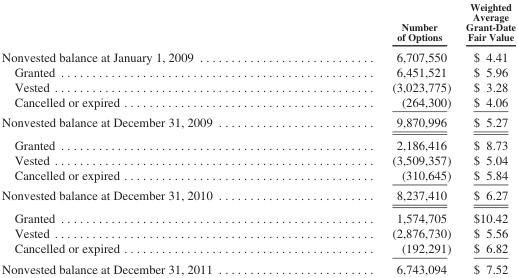table: (1, 0, 515, 275)
table column: (1, 0, 301, 275), (301, 0, 457, 275), (457, 0, 515, 275)
table column header: (1, 0, 515, 45)
table row: (1, 0, 515, 45), (1, 111, 515, 133), (1, 185, 515, 206), (1, 133, 515, 152), (1, 206, 515, 225), (1, 45, 515, 63), (1, 167, 515, 185), (1, 240, 515, 258), (1, 94, 515, 111), (1, 258, 515, 275), (1, 78, 515, 94), (1, 63, 515, 78), (1, 152, 515, 167), (1, 225, 515, 240)
